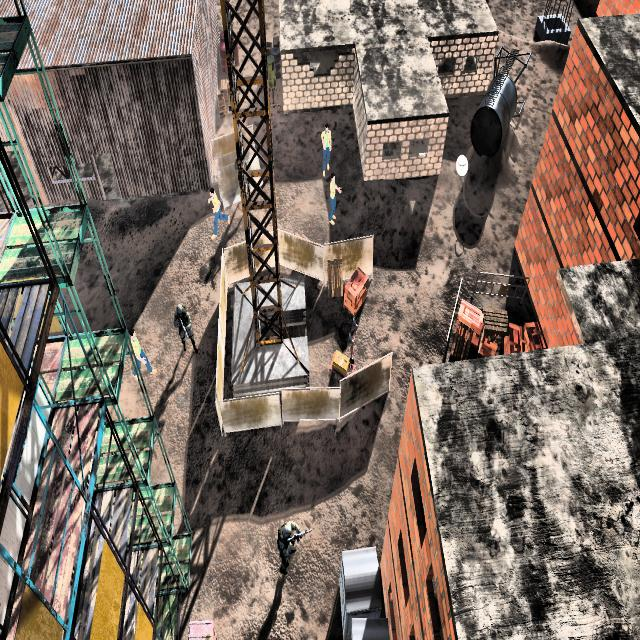bad: (270, 504, 306, 584), (171, 294, 201, 364)
good: (127, 314, 158, 385), (203, 180, 233, 241), (320, 170, 346, 237), (320, 114, 335, 174)
